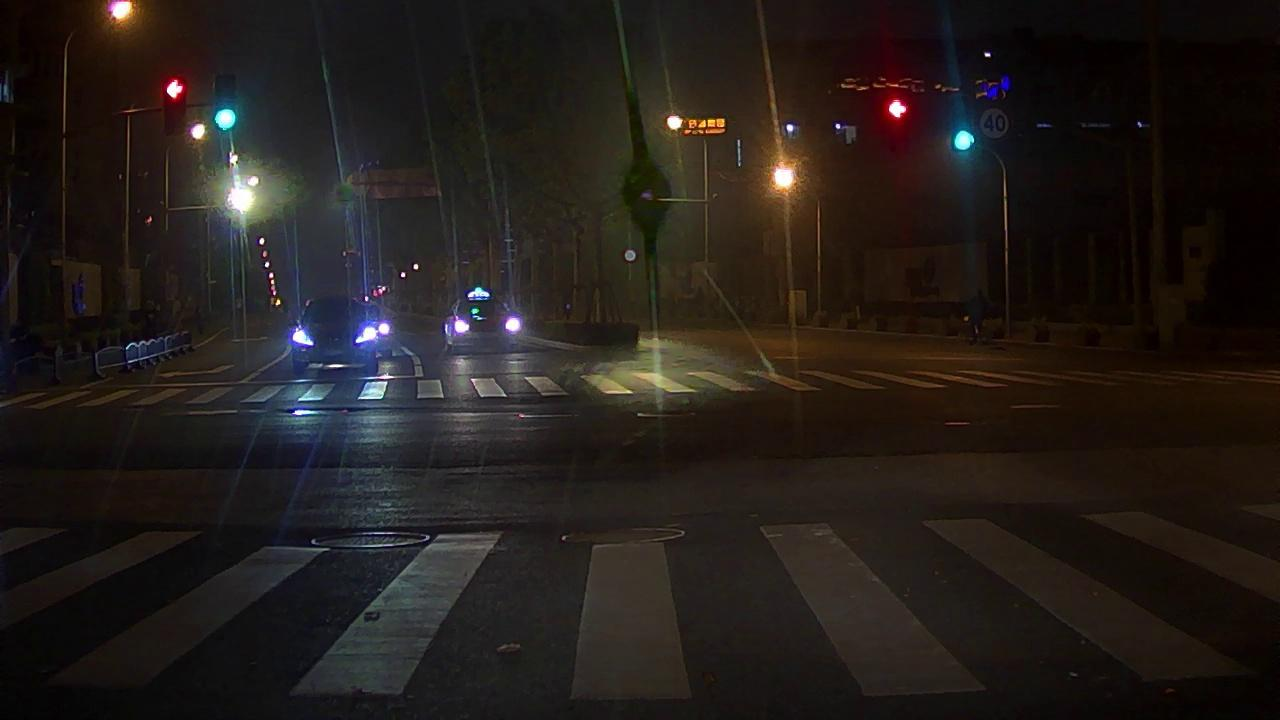traffic_light: (214, 75, 235, 132), (953, 96, 974, 152), (887, 99, 906, 147), (166, 80, 184, 130)
